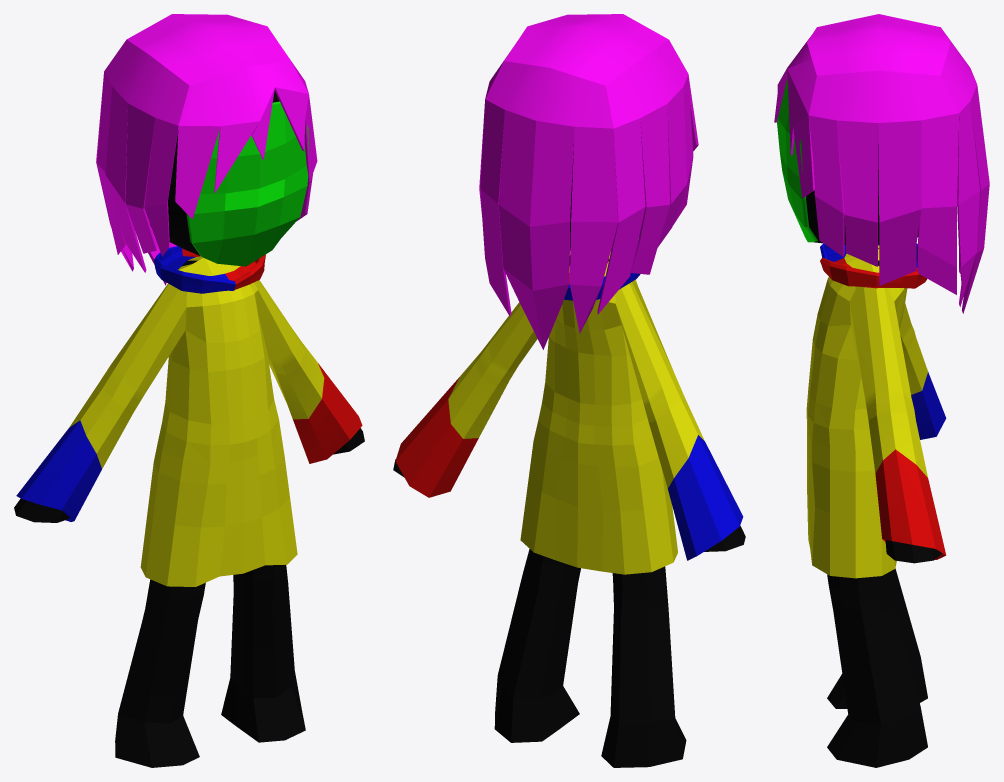
Rendered from bpf.fbx.
The picture shows the model from 3 angles, left to right: view 1: azimuth 30°, elevation 25°; view 2: azimuth 150°, elevation 25°; view 3: azimuth 270°, elevation 25°; orthographic projection. The views are drawn at different scales.
Parts seen in each view (by area): view 1: pCube2; view 2: pCube2; view 3: pCube2.
Part boxes in pixels (left/top/right/bottom): pCube2: left=14, top=14, right=364, bottom=767; pCube2: left=393, top=14, right=745, bottom=767; pCube2: left=774, top=14, right=989, bottom=767.
Size of the model in its own units: 215 by 419 by 118.
